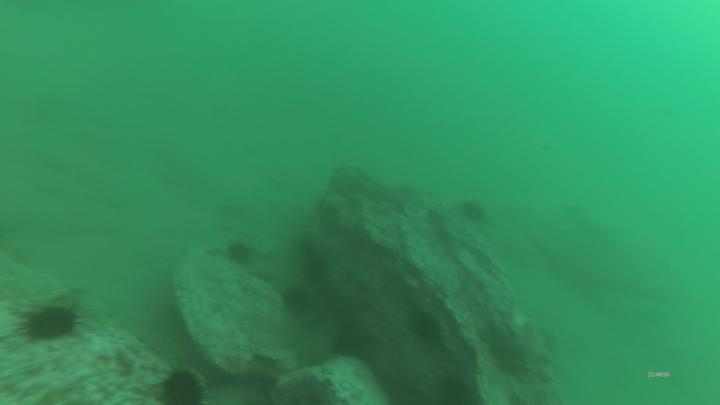echinus: (19, 306, 82, 344), (154, 365, 208, 405), (384, 377, 432, 405), (408, 307, 444, 344), (434, 376, 473, 405), (301, 255, 334, 288), (281, 283, 314, 315), (331, 336, 367, 362), (458, 200, 487, 227), (226, 241, 253, 266)
